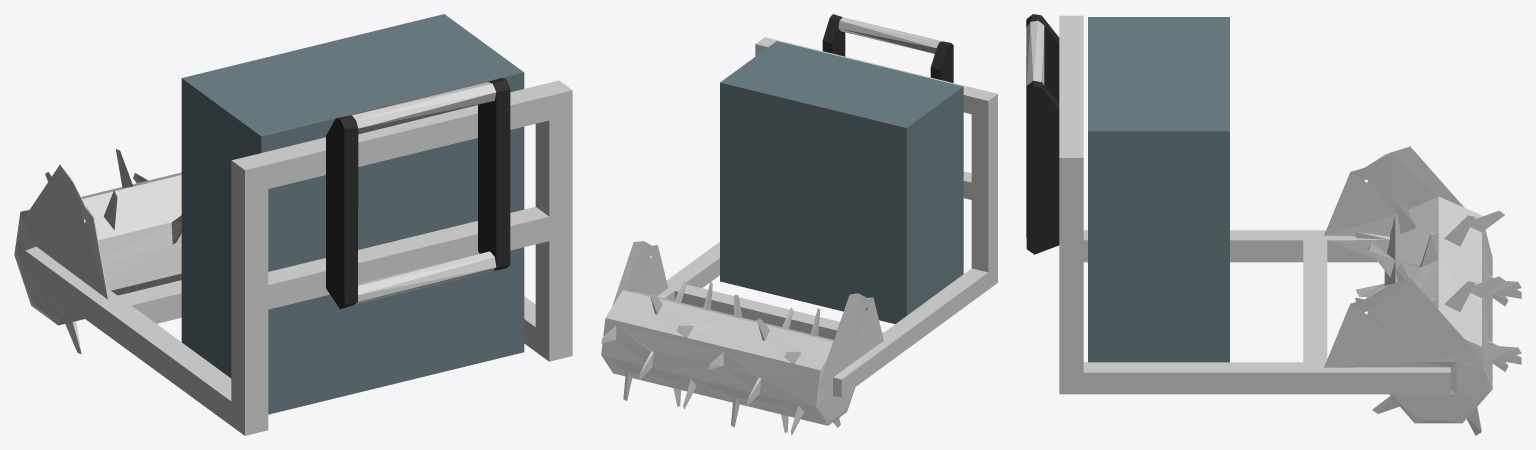
Rendered from Rockgrinder.dae.
3 renders of one model, left to right at view 1: azimuth 30°, elevation 25°; view 2: azimuth 150°, elevation 25°; view 3: azimuth 270°, elevation 25°, orthographic. The views are drawn at different scales.
Visible parts, largest first — view 1: Rockgrinder; view 2: Rockgrinder; view 3: Rockgrinder.
Boxes of the visible parts, x1,y1,x2,y2 form: Rockgrinder: (14,14,572,435); Rockgrinder: (601,14,997,435); Rockgrinder: (1026,14,1521,435).
Size of the model in its own units: 0.3554 by 0.5228 by 0.3956.
